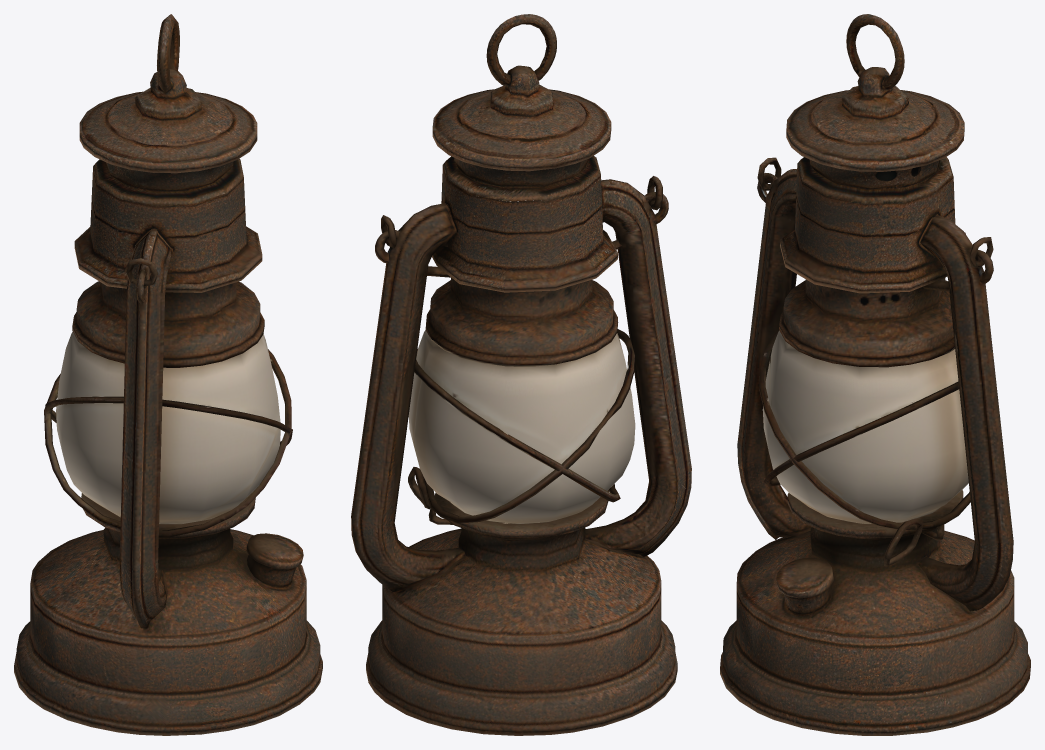
File: Lampe.glb
3 renders of one model, left to right at view 1: azimuth 30°, elevation 25°; view 2: azimuth 150°, elevation 25°; view 3: azimuth 270°, elevation 25°, orthographic.
Parts seen in each view (by area): view 1: tripo_node_f6a37cbd-d4cd-412f-bbe5-e362a44ef4d8; view 2: tripo_node_f6a37cbd-d4cd-412f-bbe5-e362a44ef4d8; view 3: tripo_node_f6a37cbd-d4cd-412f-bbe5-e362a44ef4d8.
Boxes of the visible parts, box(x1,y1,x2,y2) form: tripo_node_f6a37cbd-d4cd-412f-bbe5-e362a44ef4d8: box(14, 14, 322, 735); tripo_node_f6a37cbd-d4cd-412f-bbe5-e362a44ef4d8: box(351, 14, 691, 735); tripo_node_f6a37cbd-d4cd-412f-bbe5-e362a44ef4d8: box(720, 14, 1030, 735).
Size of the model in its own units: 0.4292 by 0.9995 by 0.4302.
Materials: 1 (1 with a texture image).
